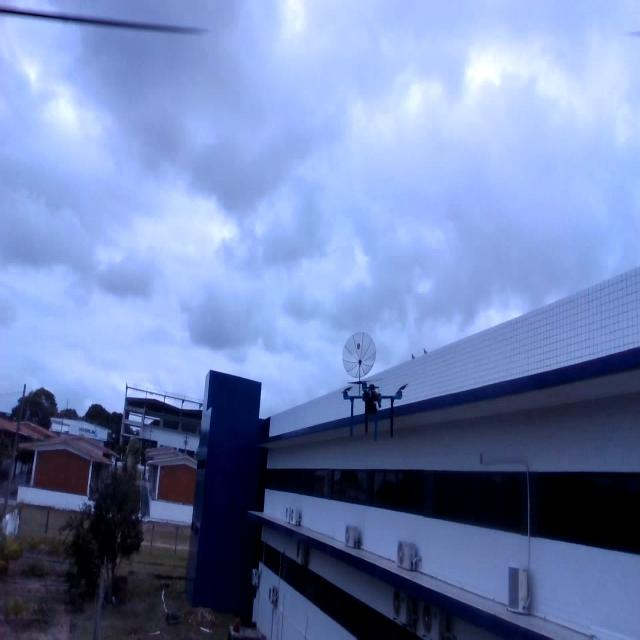-uav-: (339, 368, 408, 444)
